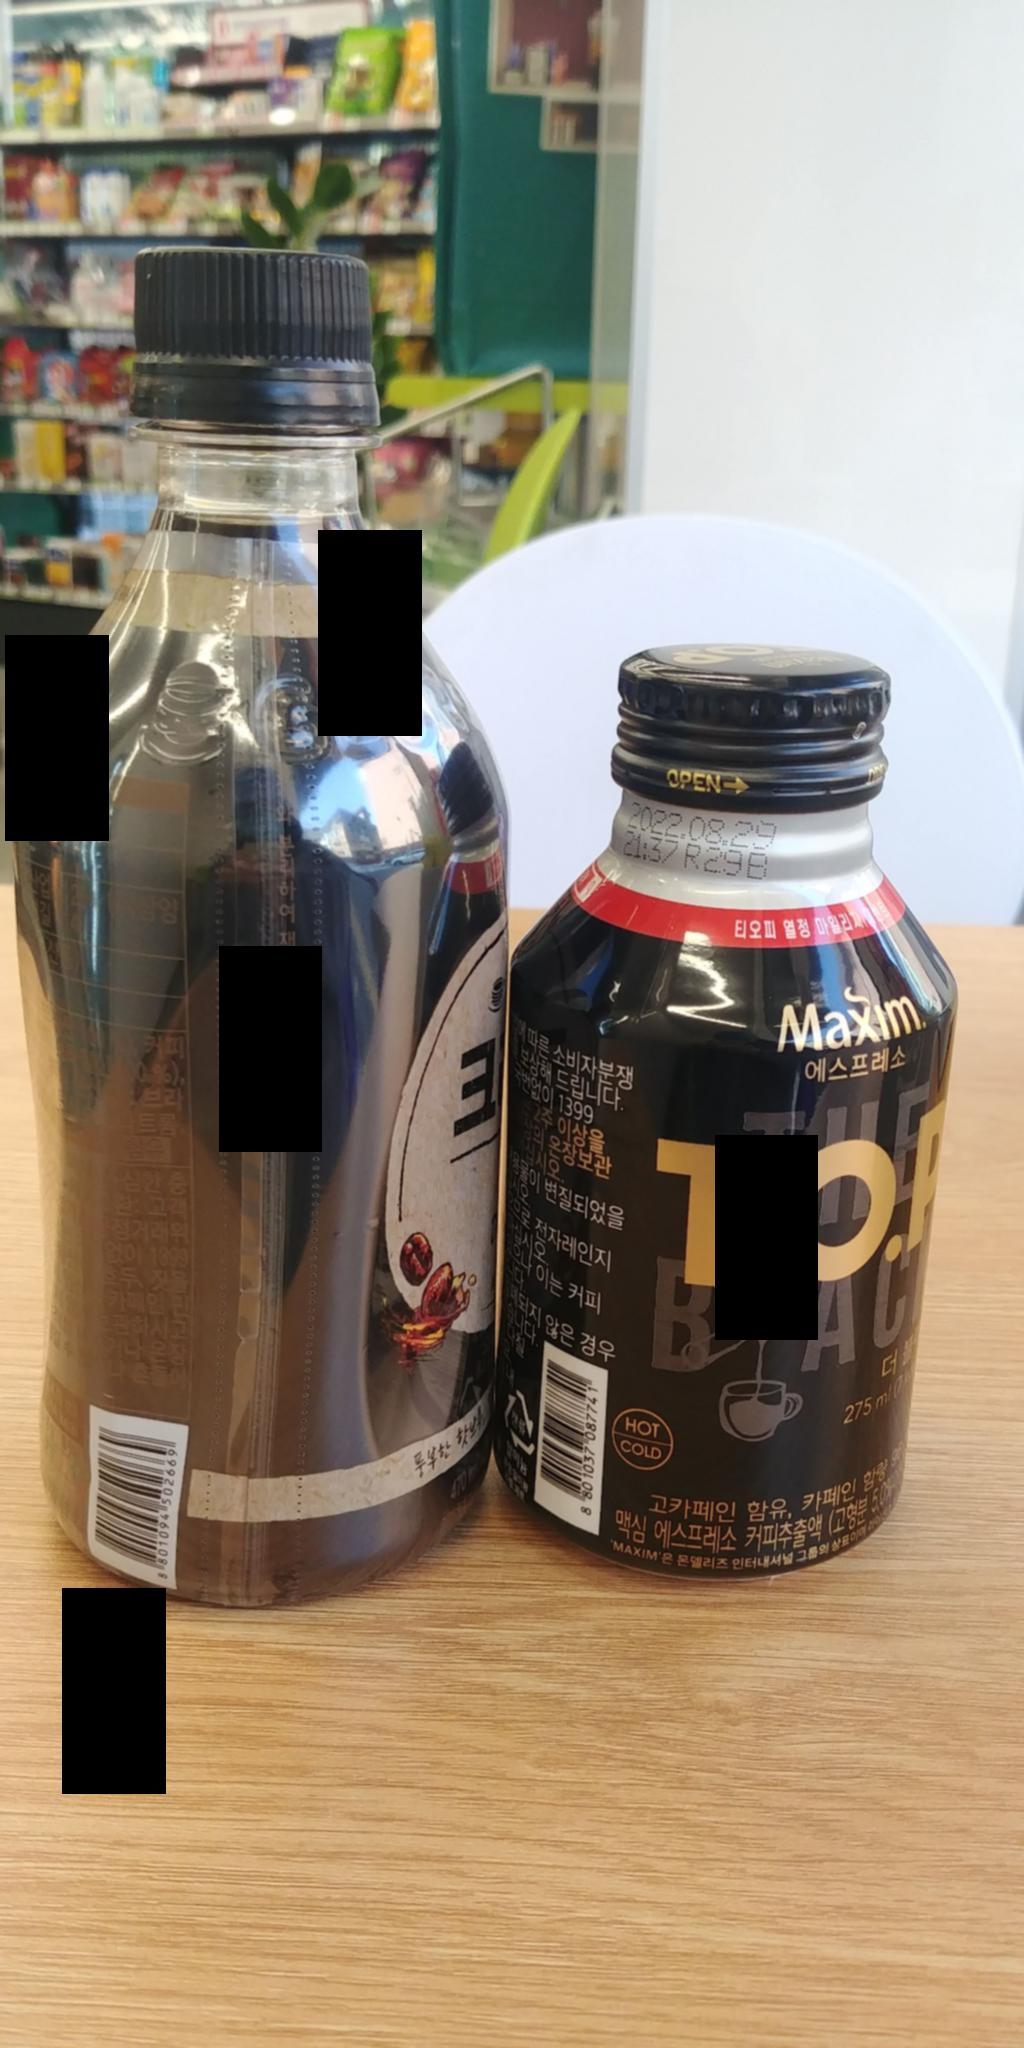TOP_black: (509, 626, 955, 1586)
georgiacraft_black: (27, 226, 509, 1597)
